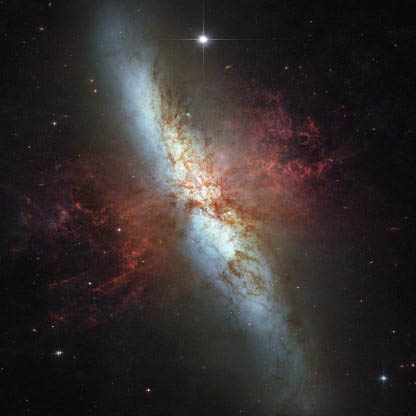Messier 82: (56, 5, 358, 415)
